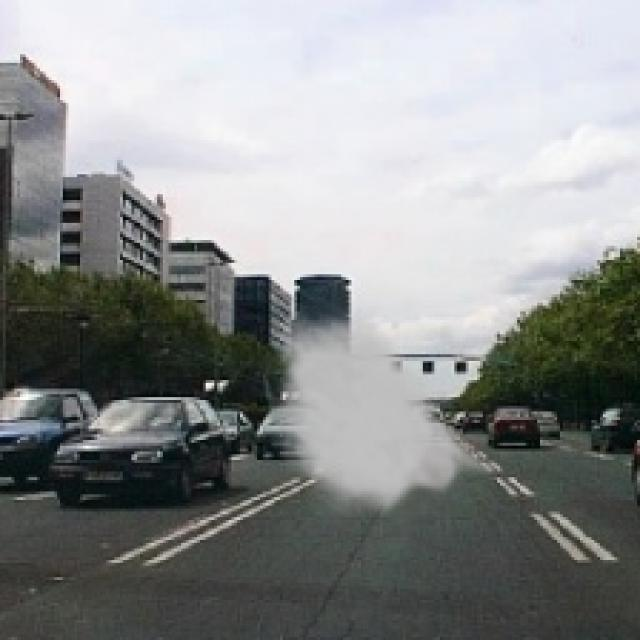smoke: (266, 300, 506, 520)
